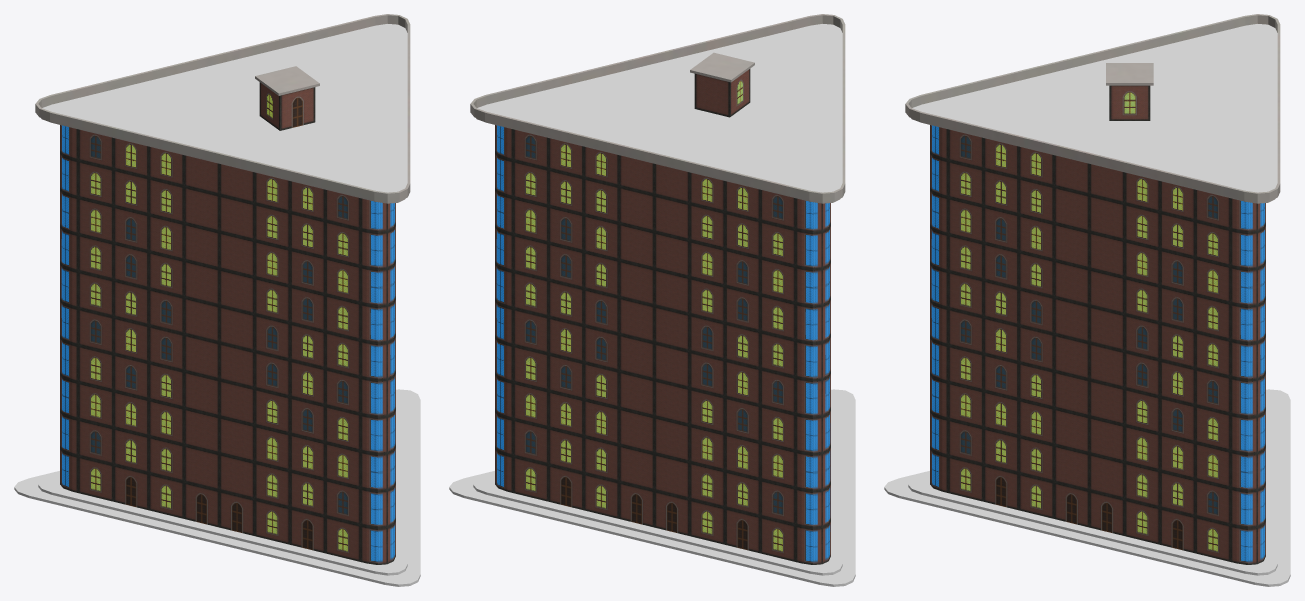
The model's file is BuildingK.fbx.
3 renders of one model, left to right at view 1: azimuth 30°, elevation 25°; view 2: azimuth 150°, elevation 25°; view 3: azimuth 270°, elevation 25°, orthographic.
Parts seen in each view (by area): view 1: BuildingK; view 2: BuildingK; view 3: BuildingK.
Part boxes in pixels (x1,y1,x2,y2): BuildingK: (14, 14, 420, 586); BuildingK: (449, 14, 855, 586); BuildingK: (884, 14, 1290, 586).
Bounding box in the file's own units: 3397 × 3380 × 2990.
